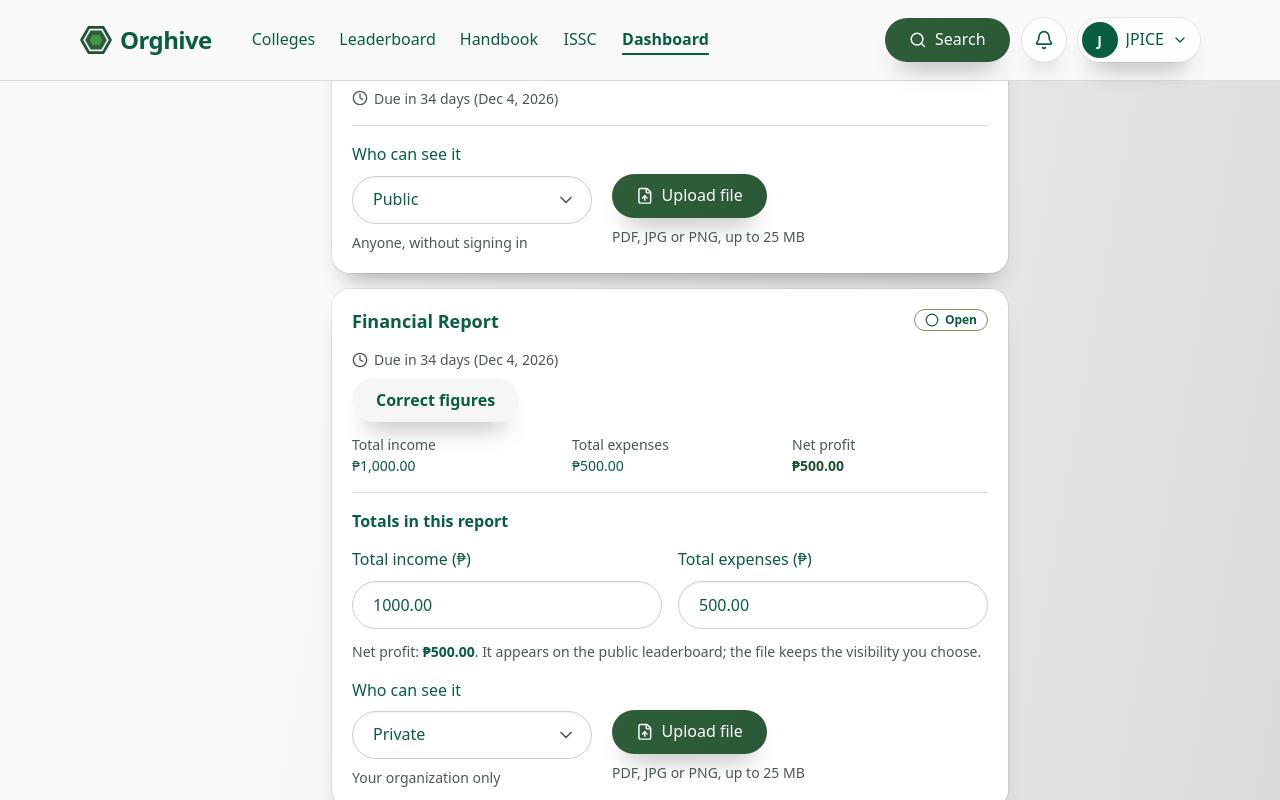
Test case: /projects/:id › corrects the saved totals in a dialog, with who is acting
(page scrolled)
Click the button "Correct figures" at (436, 400), box left=352, top=378, right=519, bottom=422
(page scrolled)
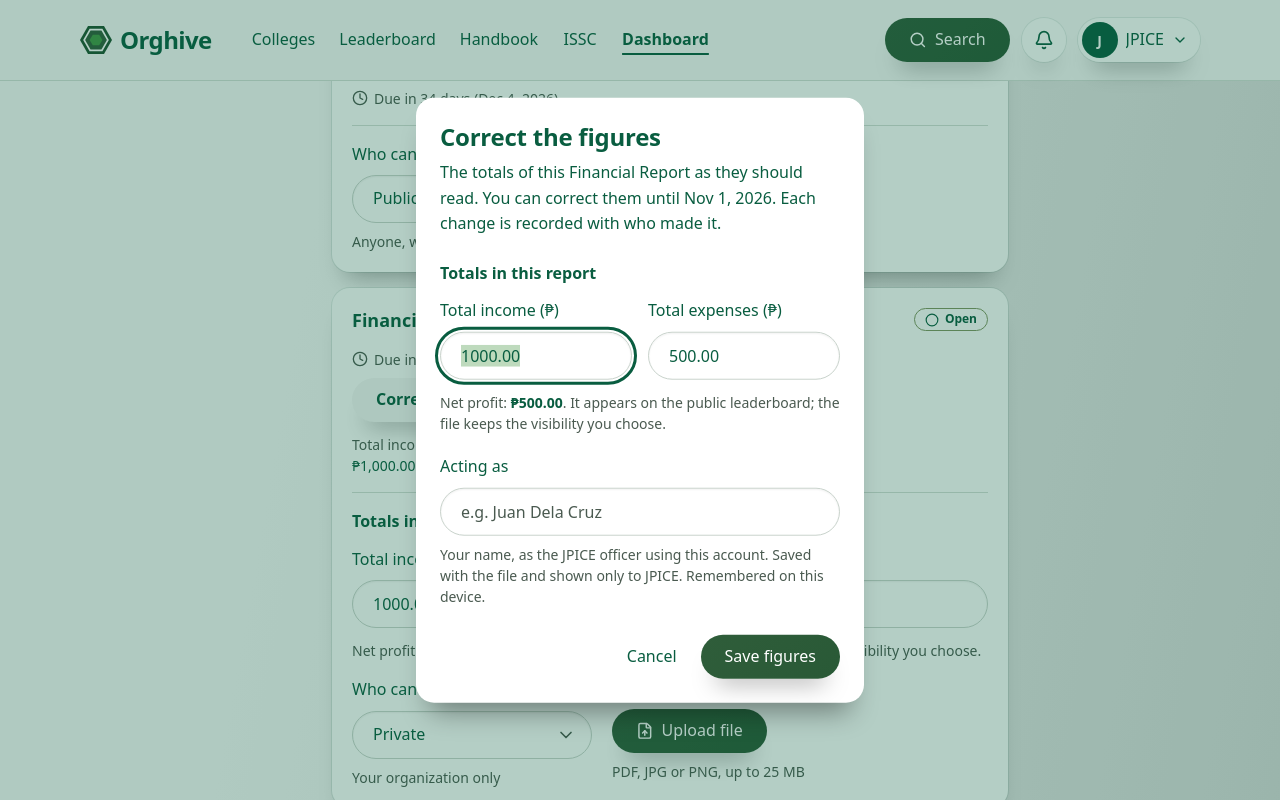
Check: the field labelled "Total income (₱)" holds "1000.00"
Replace the text in the field labelled "Total income (₱)" with "1,500.00" at (536, 356), box left=440, top=332, right=632, bottom=380
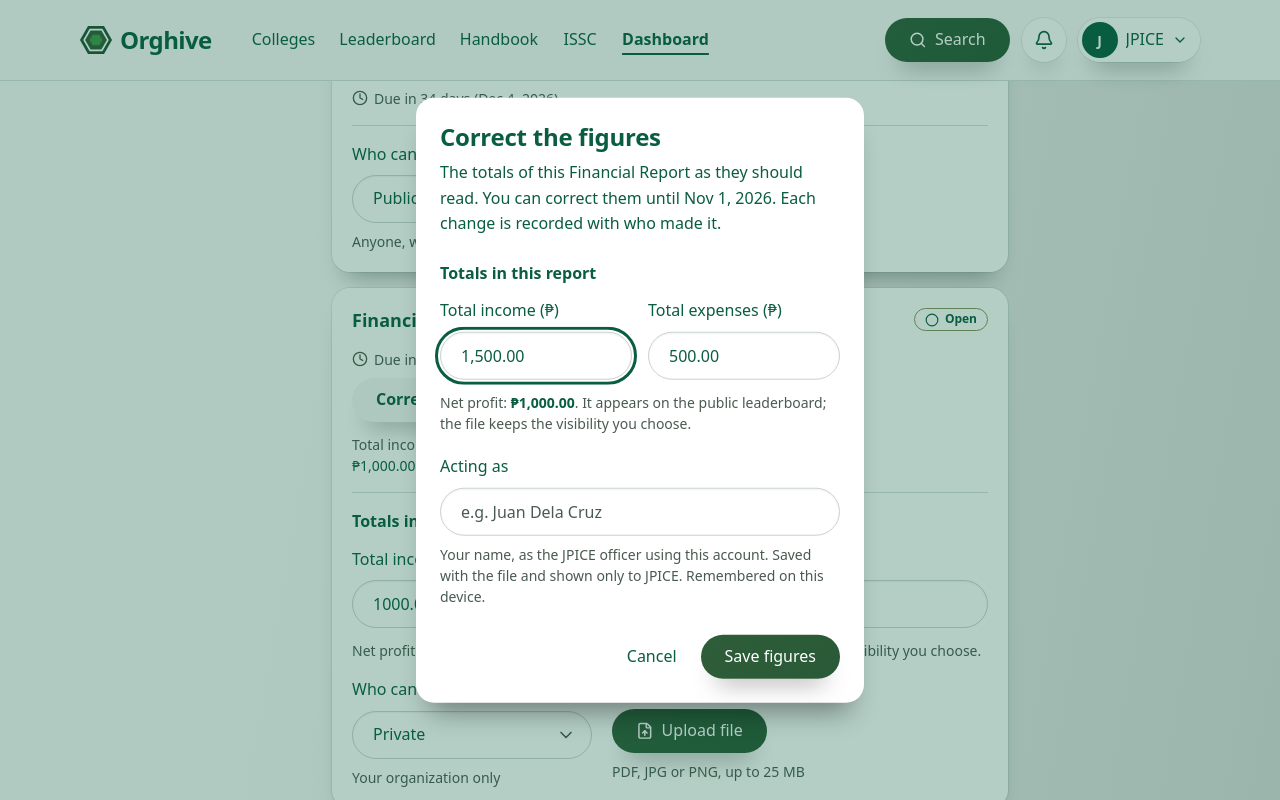
Type "Juan Dela Cruz" into the field labelled "Acting as" at (640, 511), box left=440, top=487, right=840, bottom=535
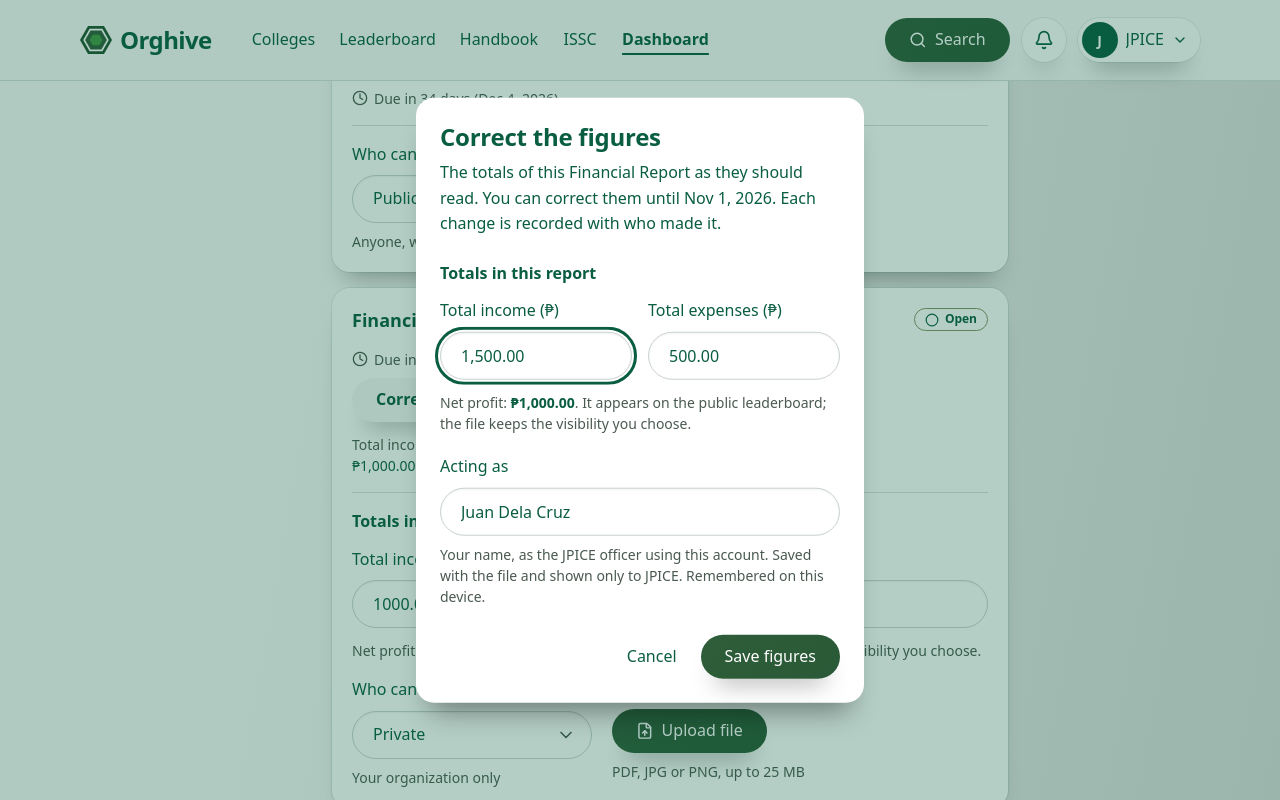
Click the button "Save figures" at (770, 656), box left=701, top=634, right=840, bottom=678
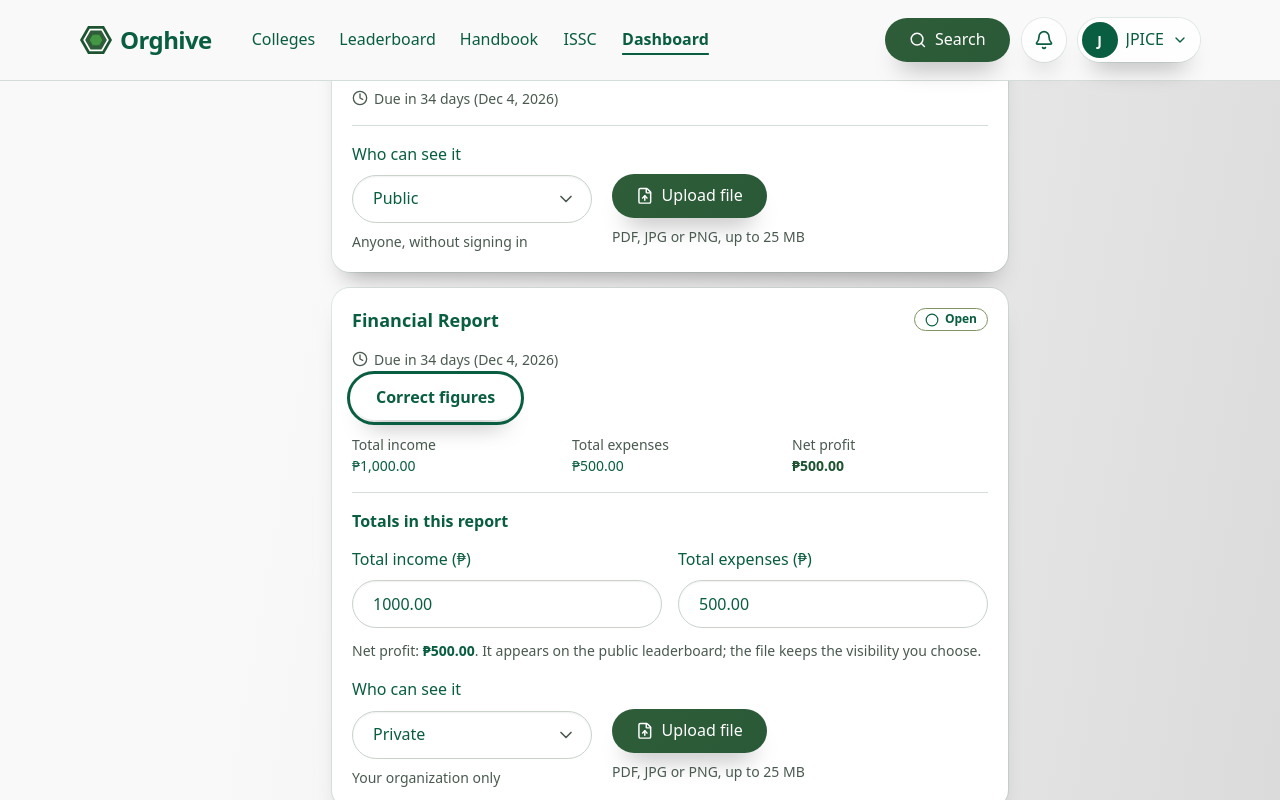
Check: the dialog is gone
